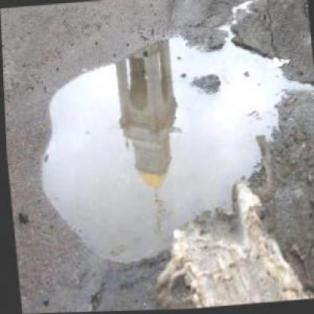Hueco: (25, 20, 313, 270)
